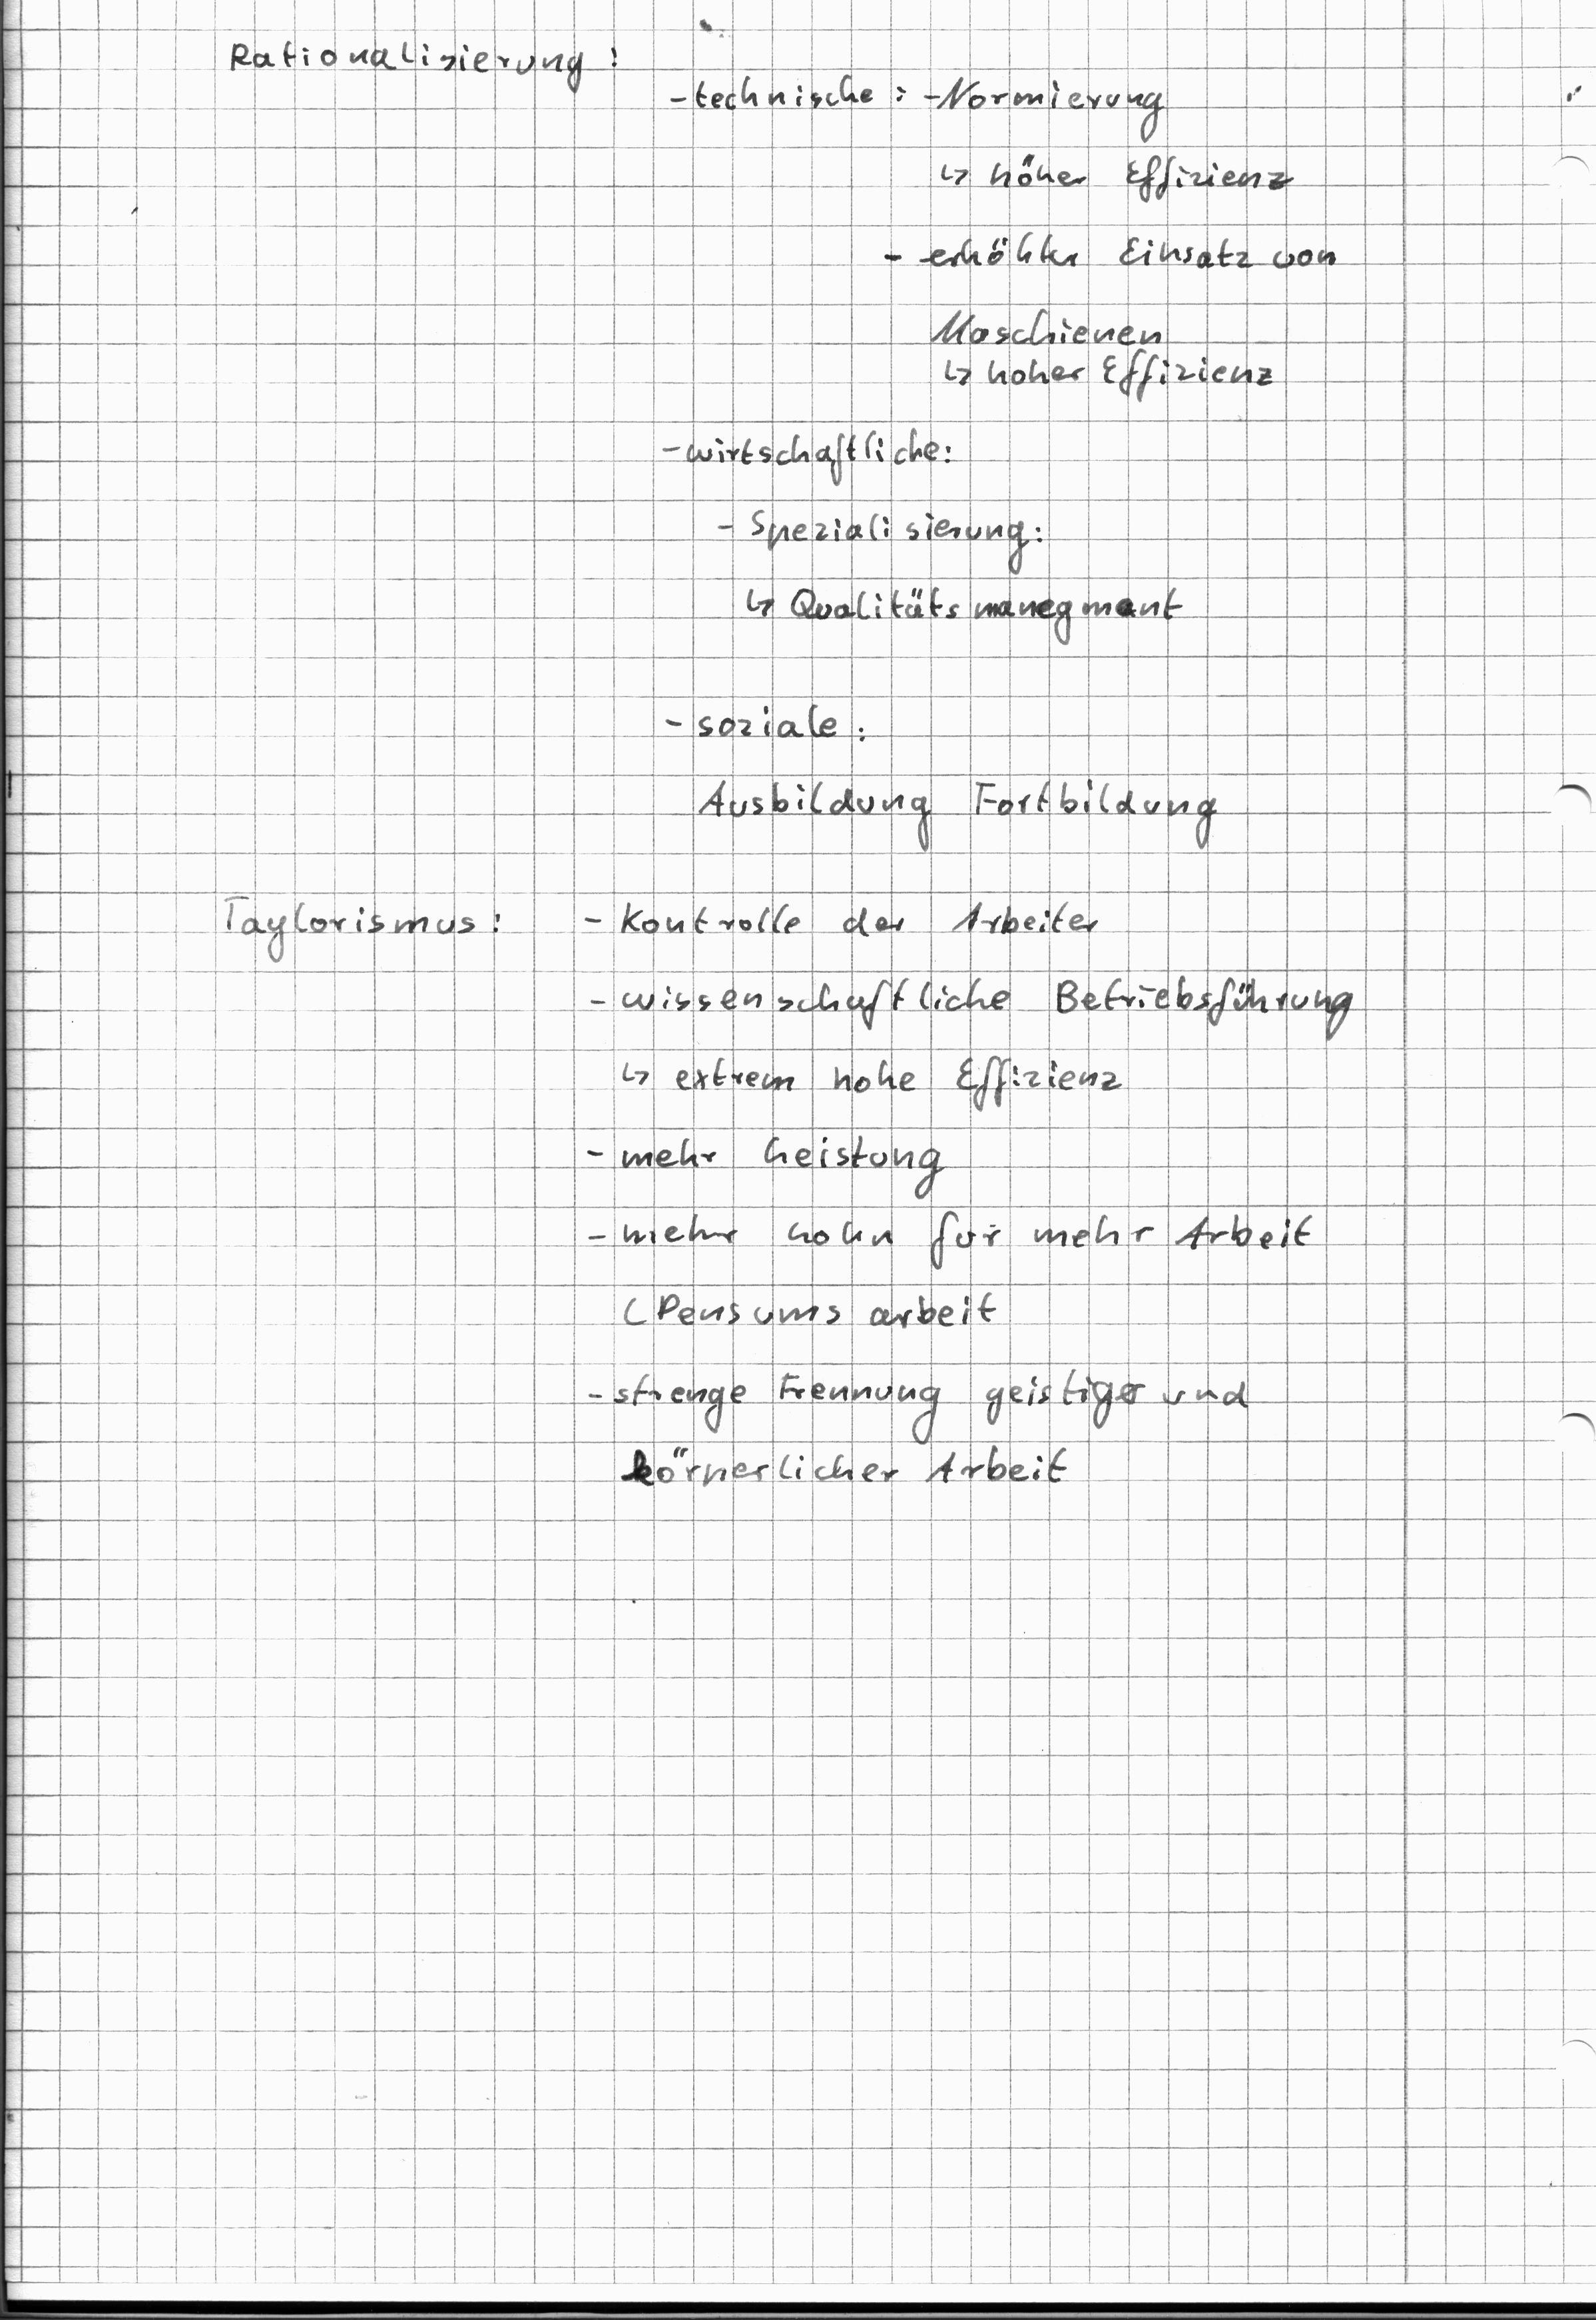word: (573, 884, 1390, 1516), (645, 432, 1187, 674), (653, 700, 1244, 878), (872, 217, 1352, 416), (910, 63, 1301, 210), (212, 13, 633, 108), (204, 861, 521, 977), (655, 57, 919, 127)
